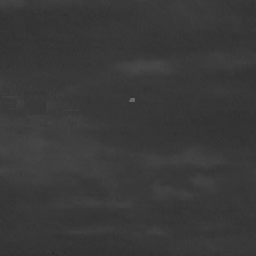Target: (127, 97, 137, 104)
